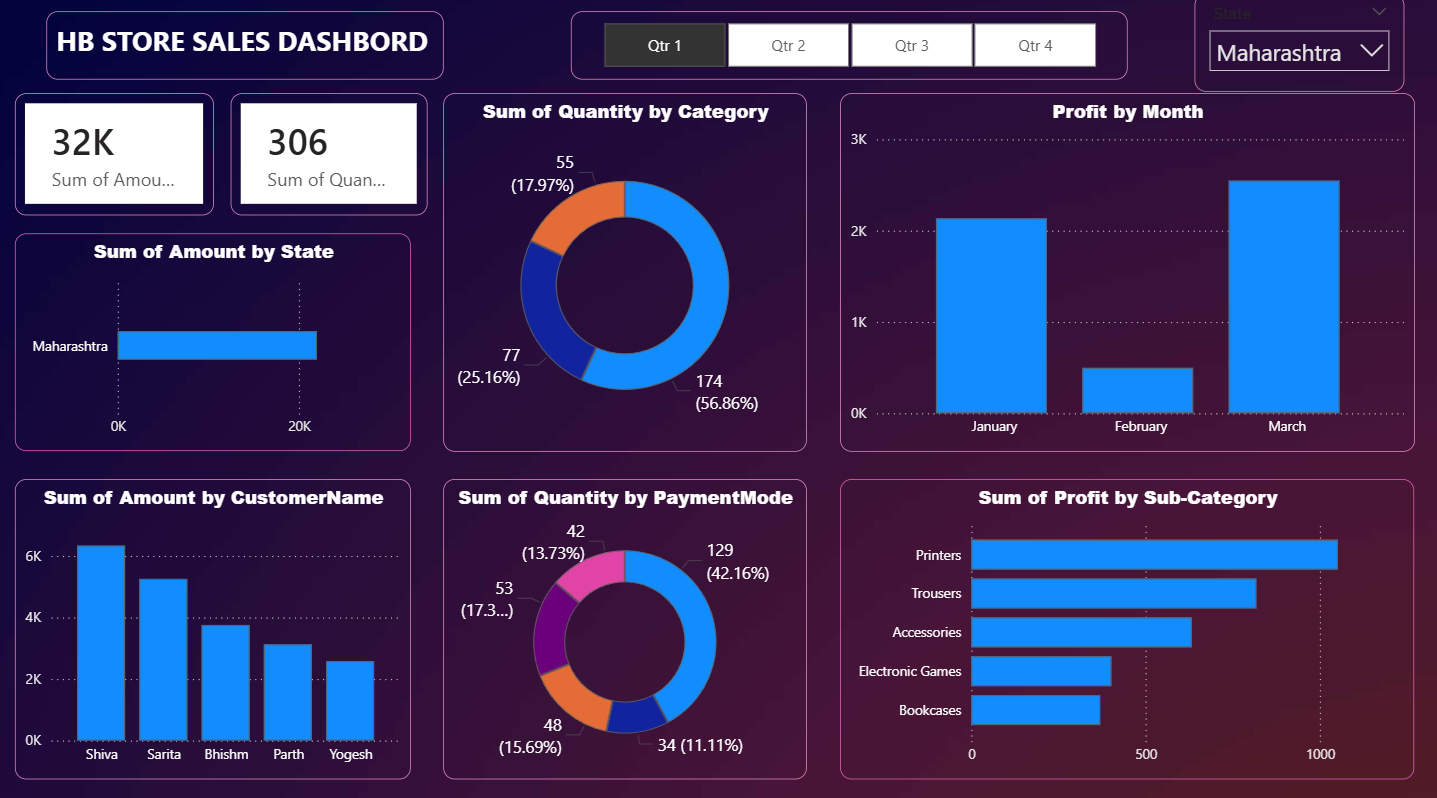

This screenshot's page, from the dashboard's own definition file:
{"tool":"powerbi","page":{"name":"Page 1","canvas":[1280,720],"ordinal":0},"visuals":[{"type":"columnChart","title":"Profit by Month","fields":{"Y":["Sum(Details.Profit)"],"Category":["Orders.Order Date.Variation.Date Hierarchy.Month"]},"box":[745.9,87,507.6,317],"z":0},{"type":"barChart","fields":{"Category":["Details.Sub-Category"],"Y":["Sum(Details.Profit)"]},"box":[745.9,428.9,507.6,265.2],"z":1000},{"type":"donutChart","fields":{"Category":["Details.Category"],"Y":["Sum(Details.Quantity)"]},"box":[395.7,87,321.1,317],"z":2000},{"type":"donutChart","fields":{"Y":["Sum(Details.Quantity)"],"Series":["Details.PaymentMode"]},"box":[395.7,428.9,321.1,265.2],"z":3000},{"type":"cardVisual","fields":{"Data":["Sum(Details.Amount)"]},"box":[16.6,87,176.1,107.7],"z":4000},{"type":"cardVisual","fields":{"Data":["Sum(Details.Quantity)"]},"box":[207.2,87,174,107.7],"z":5000},{"type":"columnChart","fields":{"Category":["Orders.CustomerName"],"Y":["Sum(Details.Amount)"]},"box":[16.6,428.9,350.2,265.2],"z":6000},{"type":"textbox","box":[44.7,15.4,351.4,60.1],"z":7000},{"type":"slicer","fields":{"Values":["Orders.Order Date.Variation.Date Hierarchy.Quarter"]},"box":[508.2,14.7,491.9,60.3],"z":8000},{"type":"slicer","fields":{"Values":["Orders.State"]},"box":[1058.8,0,185.7,86.3],"z":9000},{"type":"barChart","fields":{"Y":["Sum(Details.Amount)"],"Category":["Orders.State"]},"box":[16.6,211.3,350.2,192.7],"z":10000}]}

Visuals, with their boxes in screenshot pixels (x1, y1, x2, y2), scaled from the page's 1280x720 canvas onto the 1437x798 screenshot:
"Profit by Month" columnChart: bbox=(837, 96, 1407, 448)
barChart - Details.Sub-Category x Sum(Details.Profit): bbox=(837, 475, 1407, 769)
donutChart - Details.Category x Sum(Details.Quantity): bbox=(444, 96, 805, 448)
donutChart - Sum(Details.Quantity) x Details.PaymentMode: bbox=(444, 475, 805, 769)
cardVisual - Sum(Details.Amount): bbox=(19, 96, 216, 216)
cardVisual - Sum(Details.Quantity): bbox=(233, 96, 428, 216)
columnChart - Orders.CustomerName x Sum(Details.Amount): bbox=(19, 475, 412, 769)
textbox: bbox=(50, 17, 445, 84)
slicer - Orders.Order Date.Variation.Date Hierarchy.Quarter: bbox=(571, 16, 1123, 83)
slicer - Orders.State: bbox=(1189, 0, 1397, 96)
barChart - Sum(Details.Amount) x Orders.State: bbox=(19, 234, 412, 448)
